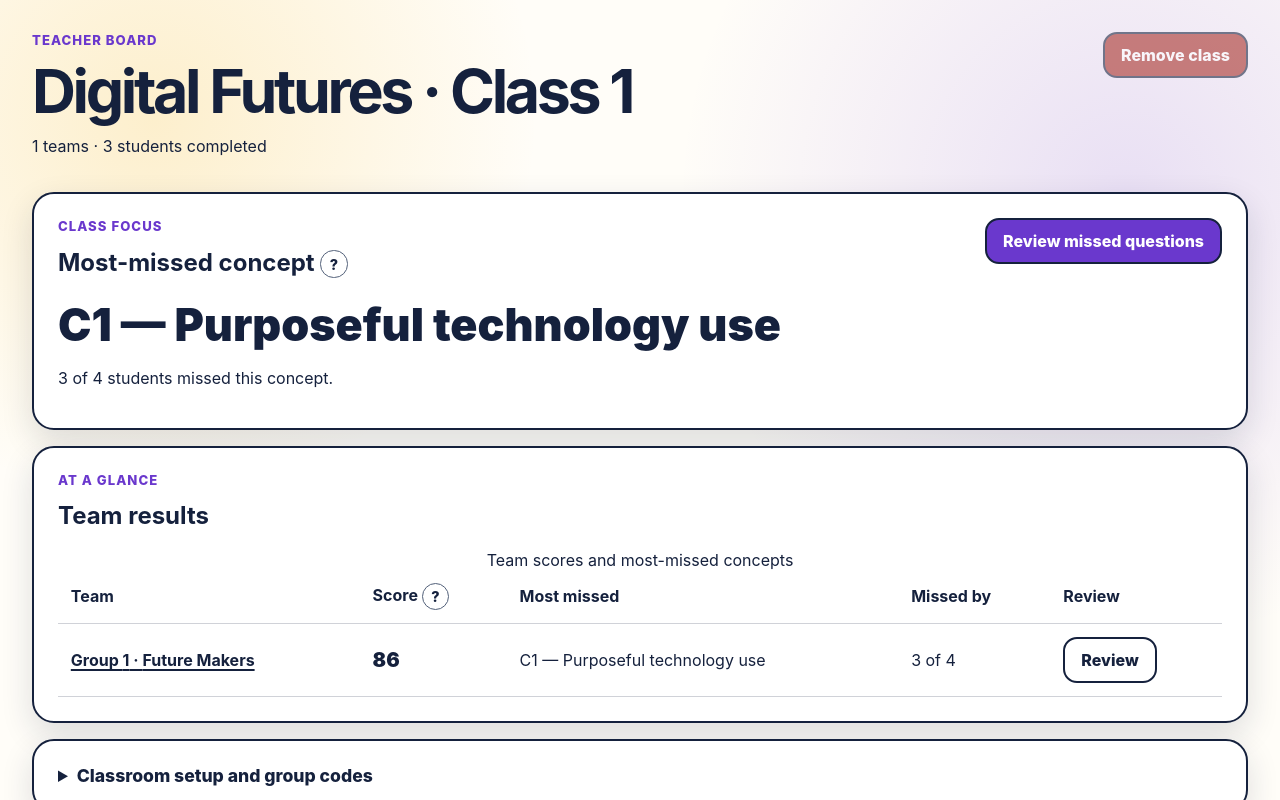
Test: simplified teacher board › reviews only the questions actually missed for the selected team
Step 1. Click the button "Review" → (1110, 660), box [1063,637,1157,683]
(page scrolled)
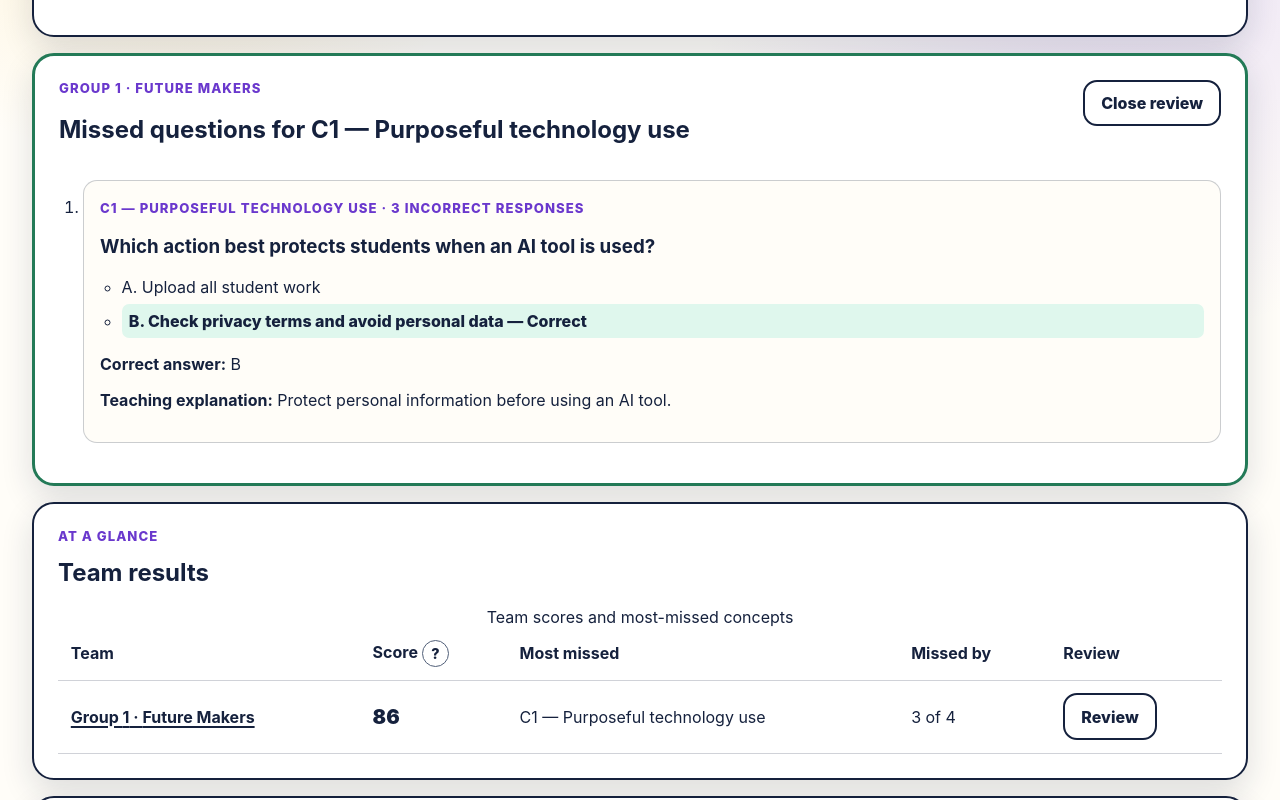
Result: the heading "Missed questions for C1 — Purposeful technology use" is shown at [59,115,690,144]
Result: the heading "Which action best protects students when an AI tool is used?" is shown at [100,235,655,258]
Result: the list item "A. Upload all student work" is shown at [122,277,320,297]
